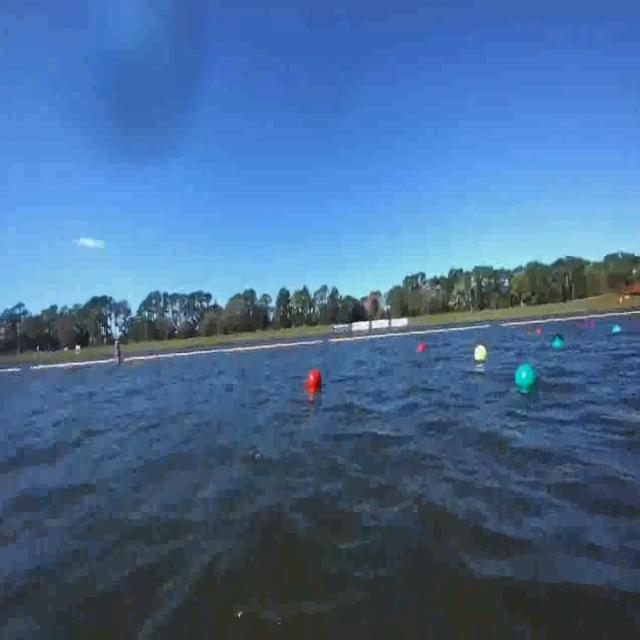green-buoy: (514, 362, 538, 392), (554, 337, 564, 351), (613, 327, 623, 338)
red-buoy: (309, 370, 322, 390), (418, 344, 426, 354)
yellow-buoy: (475, 344, 488, 361)
